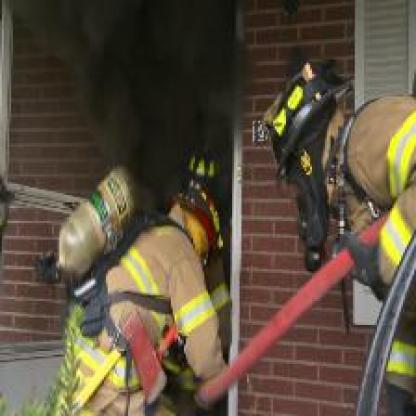other: (229, 254, 345, 344), (173, 186, 219, 257)
